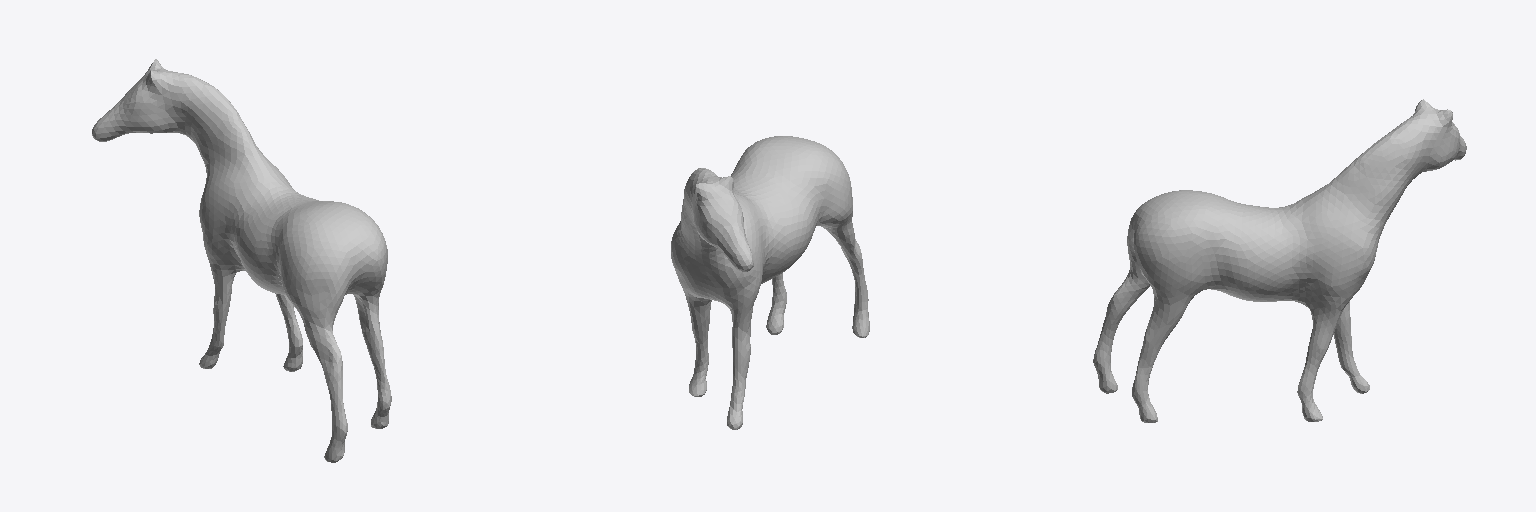
File: horsers-param-full-seamless.obj
The picture shows the model from 3 angles: view 1: azimuth 30°, elevation 25°; view 2: azimuth 150°, elevation 25°; view 3: azimuth 270°, elevation 25°; orthographic projection.
Bounding box in the file's own units: 0.0827 × 0.1503 × 0.1809.